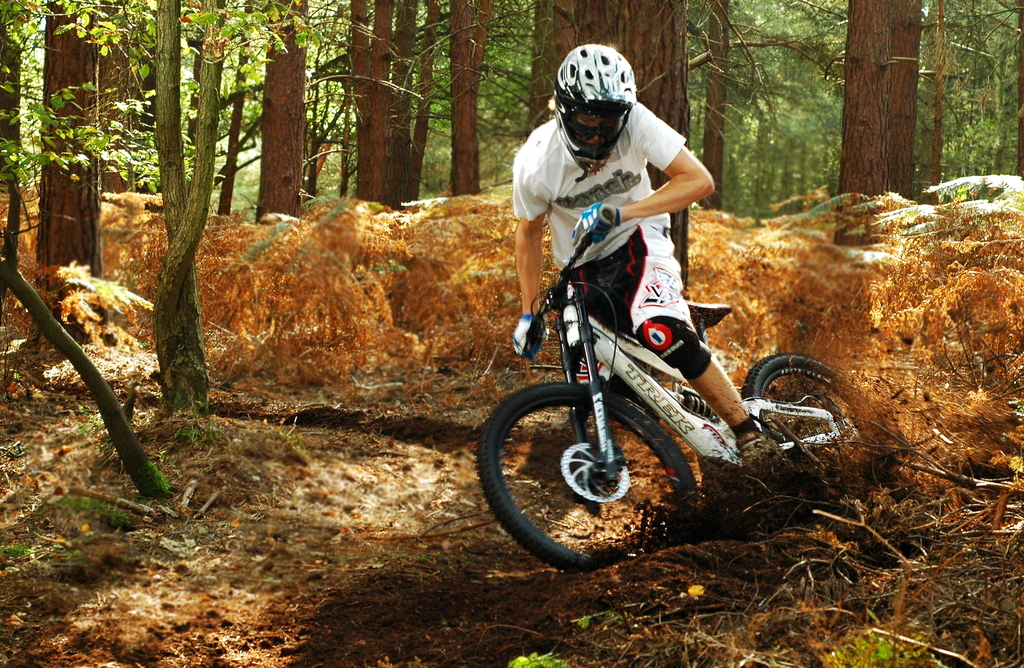Tree: (0, 0, 1024, 276), (0, 0, 330, 416)
